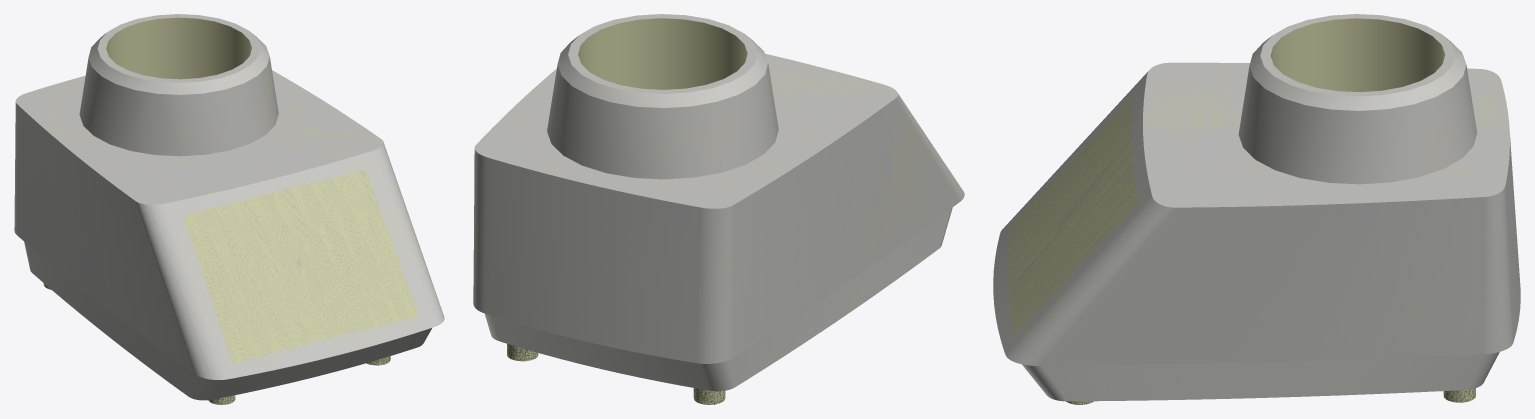
File: original-16.obj
The picture shows the model from 3 angles, left to right: view 1: azimuth 30°, elevation 25°; view 2: azimuth 150°, elevation 25°; view 3: azimuth 270°, elevation 25°; orthographic projection. The views are drawn at different scales.
Parts seen in each view (by area): view 1: Group3/mesh14/mesh14-geometry#mesh14-geometry; view 2: Group3/mesh14/mesh14-geometry#mesh14-geometry; view 3: Group3/mesh14/mesh14-geometry#mesh14-geometry.
Boxes of the visible parts, <box> form: Group3/mesh14/mesh14-geometry#mesh14-geometry: <box>14,14,444,404</box>; Group3/mesh14/mesh14-geometry#mesh14-geometry: <box>473,14,964,404</box>; Group3/mesh14/mesh14-geometry#mesh14-geometry: <box>993,14,1520,404</box>.
Bounding box in the file's own units: 0.7472 × 0.7047 × 1.14.
